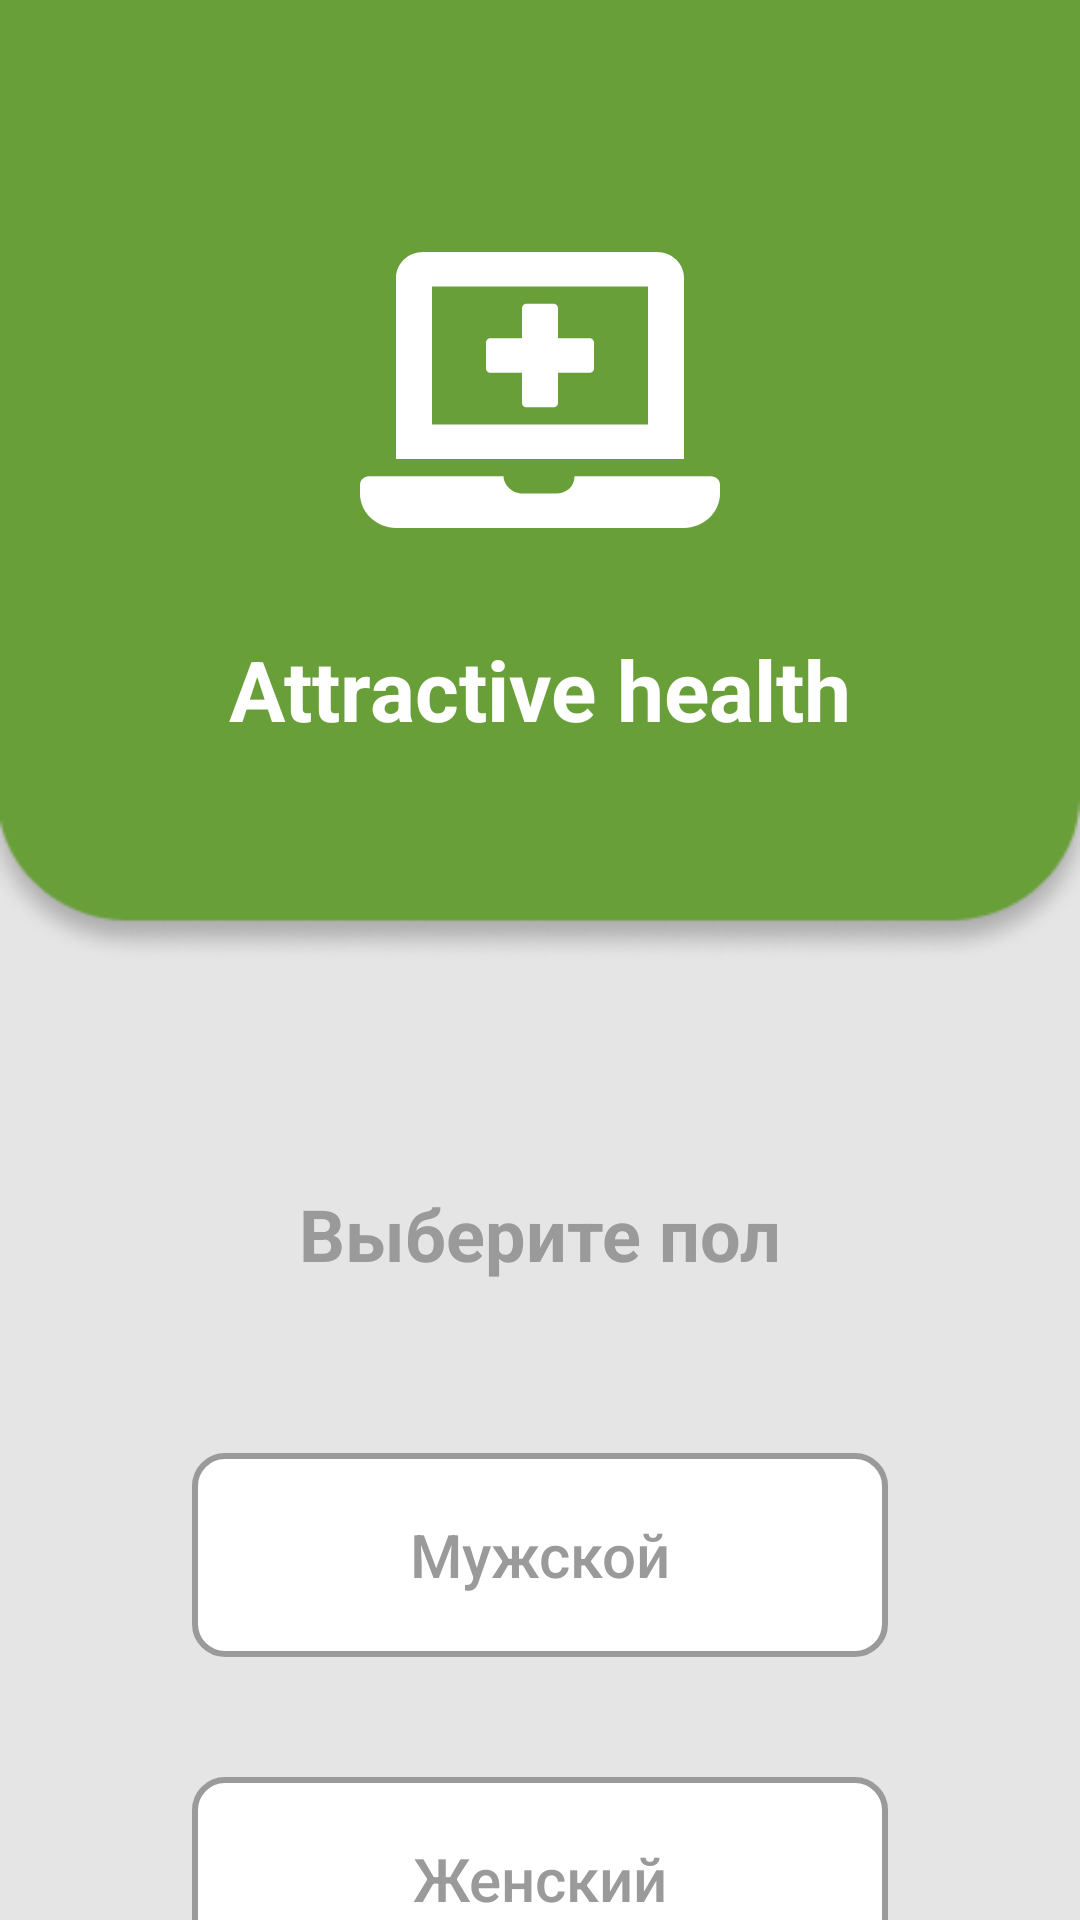

Icons on this 1080×1920 Android screen, each with its box as box(x1, y1, x2, y2):
computer: box(360, 252, 720, 528)
